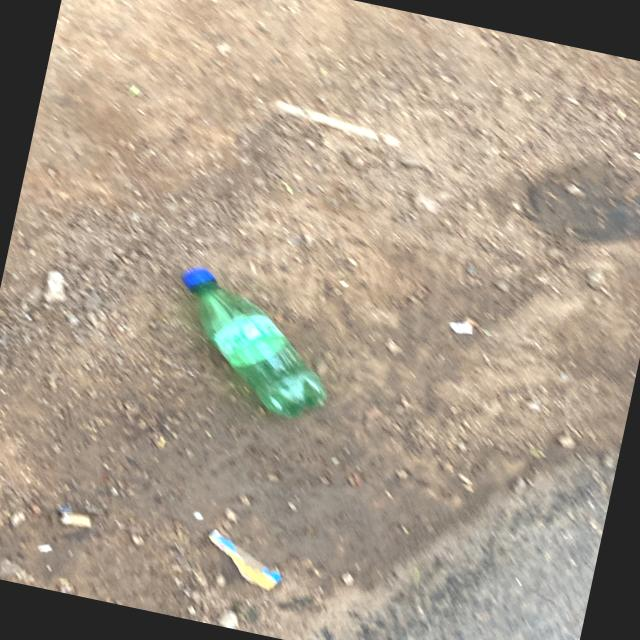chai_nhua: (181, 267, 326, 417)
